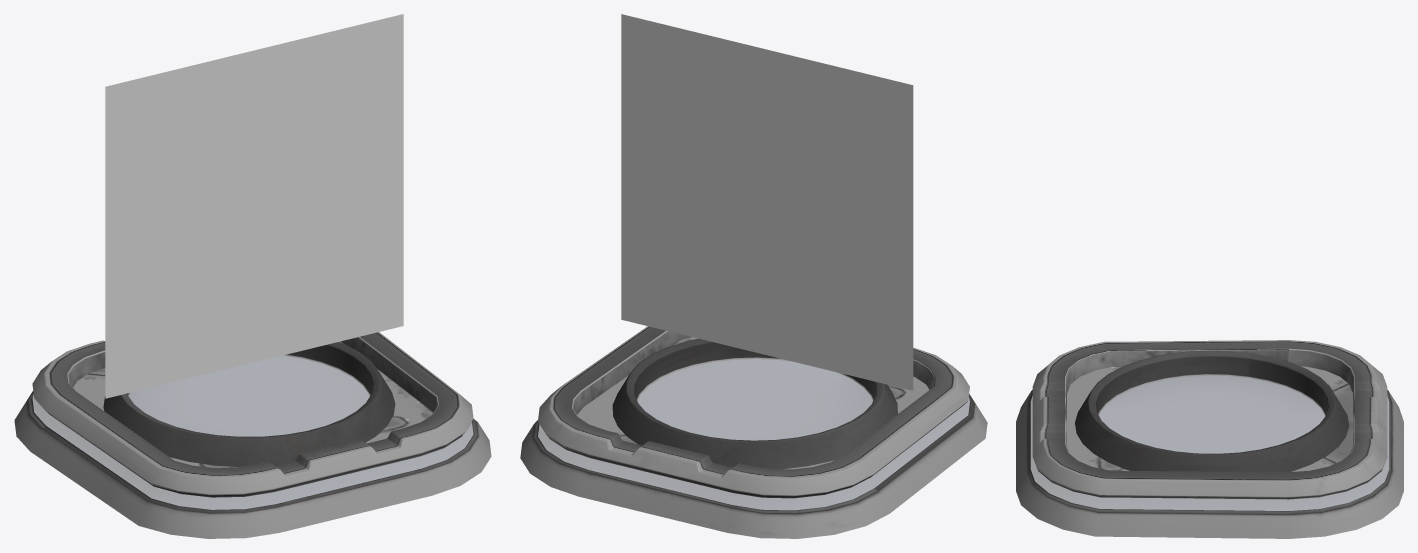
The model's file is SurfaceTarget.fbx.
The picture shows the model from 3 angles, left to right: view 1: azimuth 30°, elevation 25°; view 2: azimuth 150°, elevation 25°; view 3: azimuth 270°, elevation 25°; orthographic projection. The views are drawn at different scales.
Parts seen in each view (by area): view 1: Plane.004, SurfaceTarget; view 2: Plane.004, SurfaceTarget; view 3: SurfaceTarget.
Boxes of the visible parts, bbox=[...] form: Plane.004: bbox=[105, 14, 403, 398]; SurfaceTarget: bbox=[14, 332, 491, 538]; Plane.004: bbox=[621, 14, 913, 390]; SurfaceTarget: bbox=[520, 326, 987, 538]; SurfaceTarget: bbox=[1016, 340, 1403, 538].
Bounding box in the file's own units: 0.3745 × 0.3916 × 0.3707.
